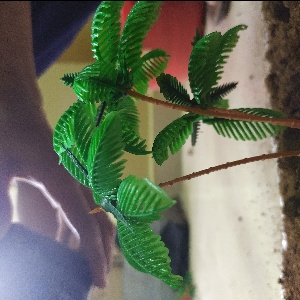plant: (34, 3, 291, 274)
